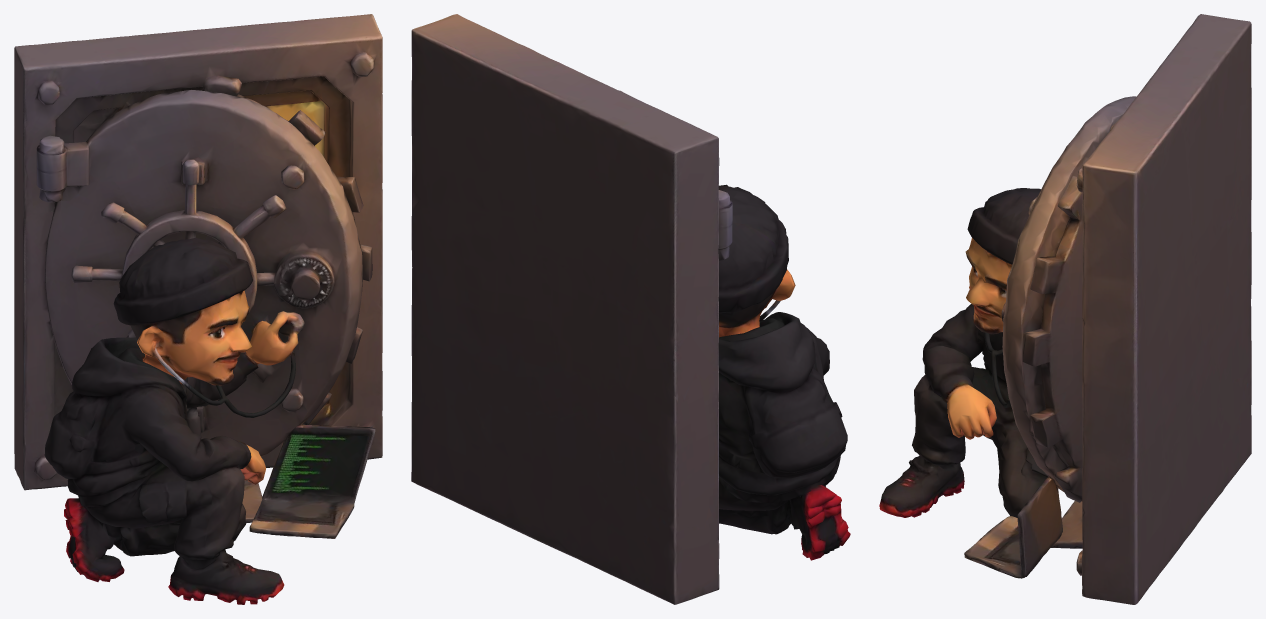
File: security.glb
The picture shows the model from 3 angles, left to right: view 1: azimuth 30°, elevation 25°; view 2: azimuth 150°, elevation 25°; view 3: azimuth 270°, elevation 25°; orthographic projection. The views are drawn at different scales.
Visible parts, largest first — view 1: security; view 2: security; view 3: security.
Part boxes in pixels (x1=…): security: x1=14, y1=14, x2=382, y2=604; security: x1=411, y1=14, x2=850, y2=604; security: x1=879, y1=14, x2=1251, y2=604.
Bounding box in the file's own units: 0.8699 × 1.02 × 0.7571.
Materials: 1 (1 with a texture image).
